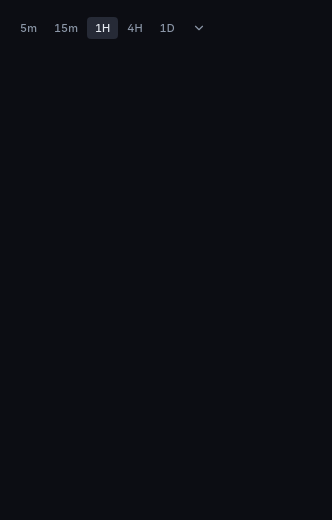
strategy boundary regressions › closes the menu when an interval is picked from the strip
The image size is (332, 520).
Step 1. Click the button named "All timeframes" → coordinates (199, 28), box [183,12,215,44]
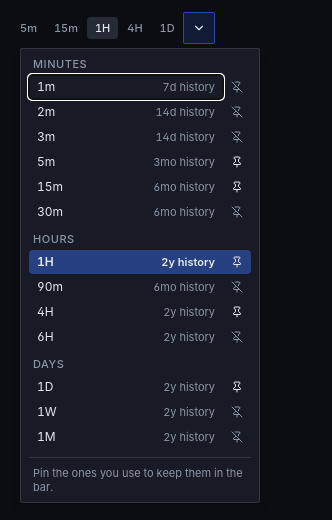
Step 2. Click the button "5m" → coordinates (28, 28), box [12,17,45,39]
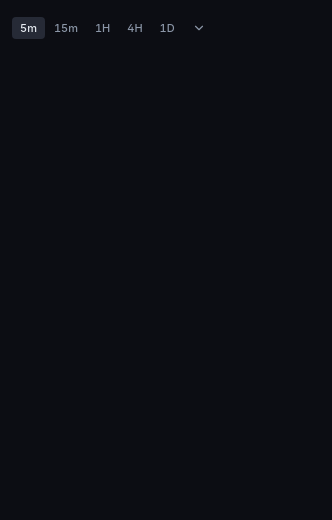
Expected: the button named "All timeframes" is collapsed, [183,12,215,44]
